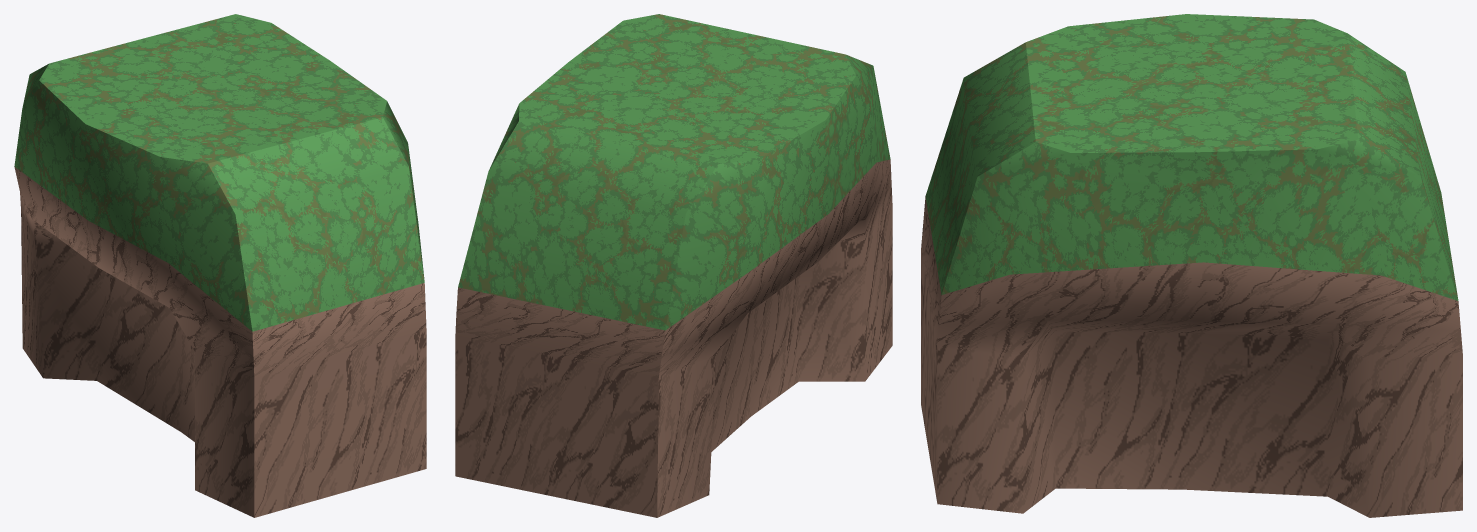
File: Earth_BlockD.fbx
3 views of the same model, side by side, from view 1: azimuth 30°, elevation 25°; view 2: azimuth 150°, elevation 25°; view 3: azimuth 270°, elevation 25° (orthographic). The views are drawn at different scales.
Visible parts, largest first — view 1: Earth_BlockD; view 2: Earth_BlockD; view 3: Earth_BlockD.
Boxes of the visible parts, <box> form: Earth_BlockD: <box>14,14,426,517</box>; Earth_BlockD: <box>455,14,892,517</box>; Earth_BlockD: <box>921,14,1462,517</box>.
Bounding box in the file's own units: 879 × 1015 × 1374.
2 materials, 2 textured.
